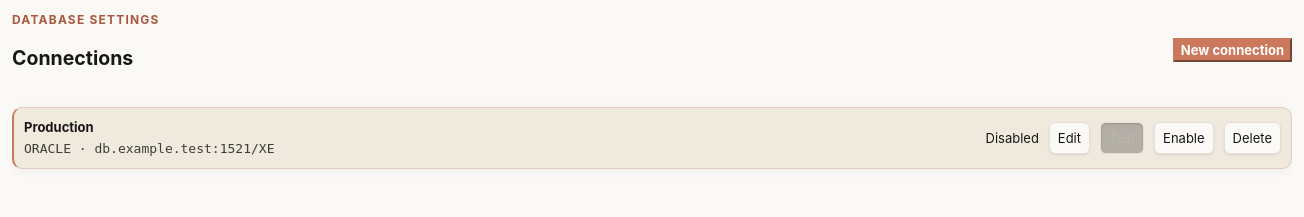
keeps the enabled card updated when enabling succeeds but refresh fails
Click the button "Enable" at (1184, 138), box [1154,122,1214,154]
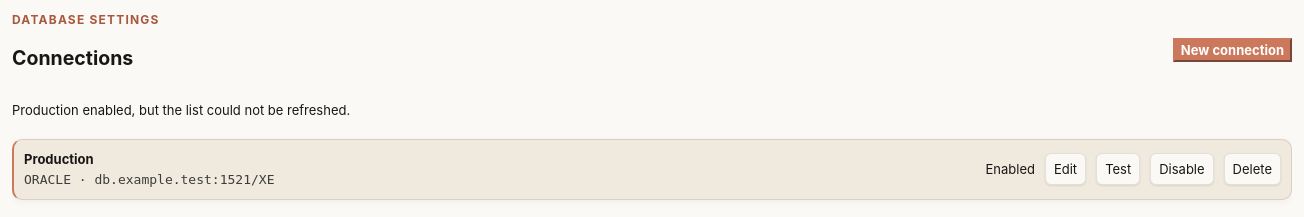
Expected: the text "Production enabled, but the list could not be refreshed." is shown, [12,102,350,118]
Expected: the text "Enabled" is shown, [986,160,1035,178]
Expected: the button "Disable" is shown, [1150,153,1214,185]
